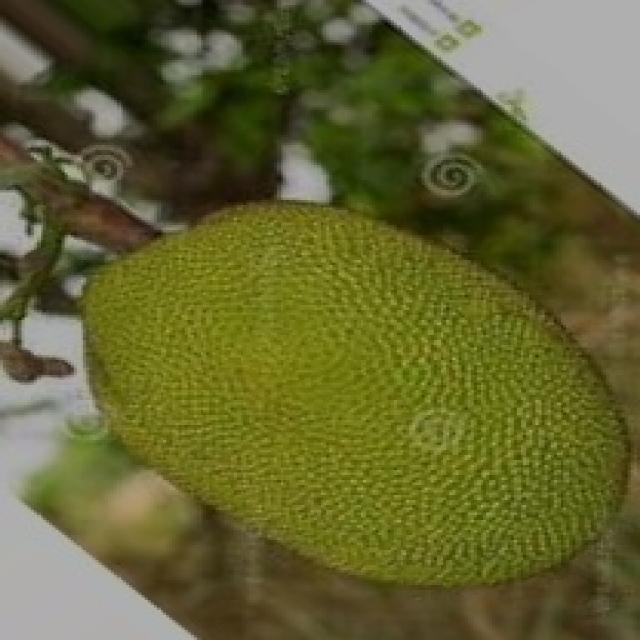Fruit: (252, 280, 640, 638)
